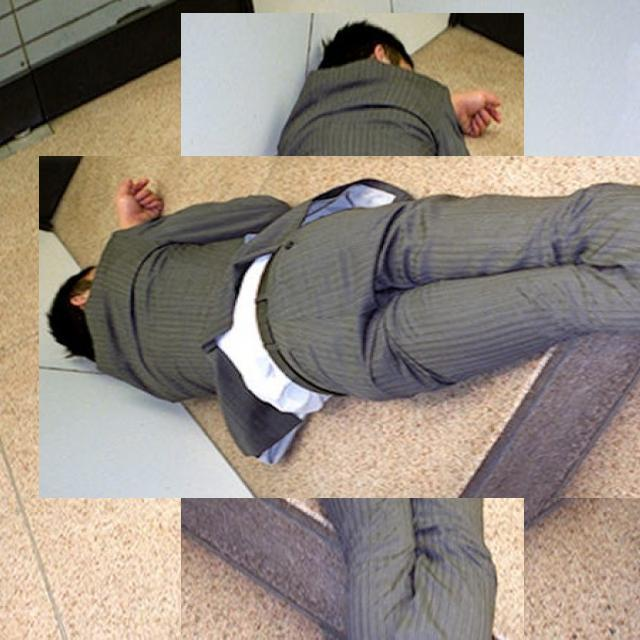Fall: (37, 157, 640, 476)
